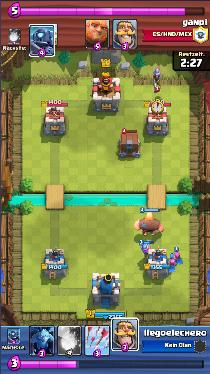ally_archer: (167, 257, 177, 273), (174, 252, 182, 263)
ally_giant: (135, 211, 163, 235)
ally_goblin_cage: (117, 132, 141, 158)
ally_musketeer: (139, 241, 150, 253)
enemy_musketeer: (152, 67, 163, 92)
